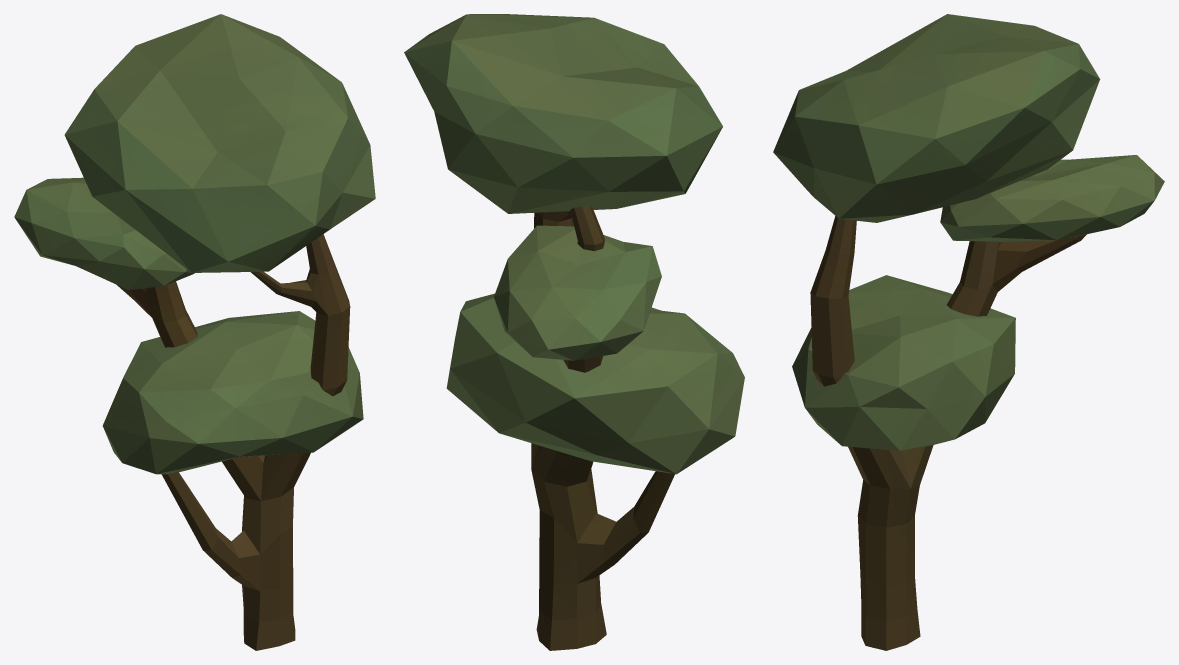
File: Tree3.fbx
3 views of the same model, side by side, from view 1: azimuth 30°, elevation 25°; view 2: azimuth 150°, elevation 25°; view 3: azimuth 270°, elevation 25° (orthographic). The views are drawn at different scales.
Visible parts, largest first — view 1: Tree3; view 2: Tree3; view 3: Tree3.
Part boxes in pixels (x1=…): Tree3: x1=14, y1=14, x2=375, y2=650; Tree3: x1=404, y1=14, x2=744, y2=650; Tree3: x1=773, y1=14, x2=1164, y2=650.
Bounding box in the file's own units: 168 × 371 × 220.
